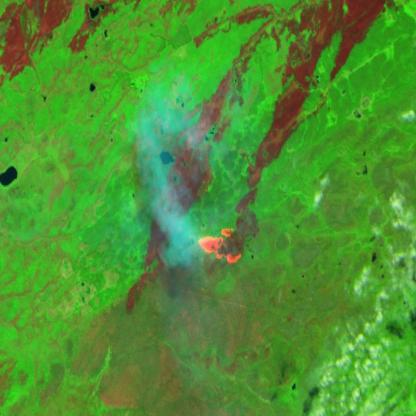fire: (194, 223, 243, 270)
